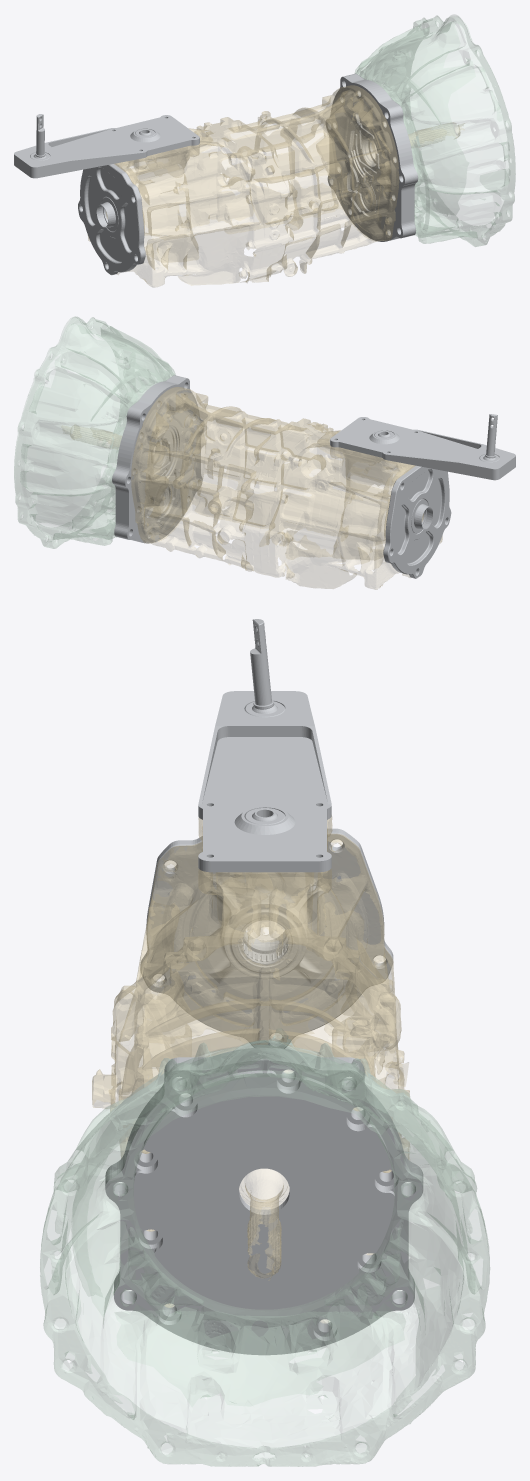
File: ar5-assembly.glb
The picture shows the model from 3 angles, top to bottom: view 1: azimuth 30°, elevation 25°; view 2: azimuth 150°, elevation 25°; view 3: azimuth 270°, elevation 25°; orthographic projection. The views are drawn at different scales.
Parts seen in each view (by area): view 1: scan_ar5, parts, scan_a340e; view 2: scan_ar5, parts, scan_a340e; view 3: parts, scan_a340e, scan_ar5.
Part boxes in pixels (left/top/right/bottom): scan_ar5: left=87, top=85, right=464, bottom=287; parts: left=14, top=73, right=418, bottom=275; scan_a340e: left=354, top=15, right=515, bottom=246; scan_ar5: left=61, top=387, right=442, bottom=589; parts: left=112, top=375, right=515, bottom=578; scan_a340e: left=14, top=316, right=175, bottom=548; parts: left=105, top=619, right=423, bottom=1355; scan_a340e: left=40, top=1028, right=489, bottom=1466; scan_ar5: left=92, top=815, right=409, bottom=1322.
Bounding box in the file's own units: 0.8469 × 0.3963 × 0.371.
